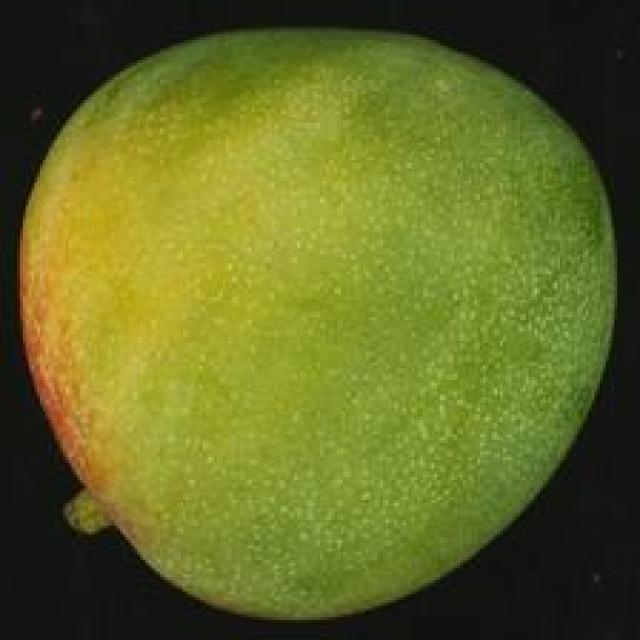Good_Mango: (17, 29, 617, 626)
